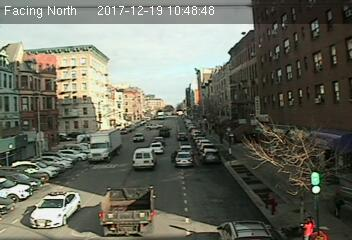car: (175, 149, 191, 166), (201, 148, 220, 162), (148, 142, 164, 153), (131, 133, 144, 142), (177, 133, 189, 141)
police: (27, 190, 82, 231)
truck: (99, 185, 157, 237), (88, 129, 121, 160), (133, 148, 155, 168)
